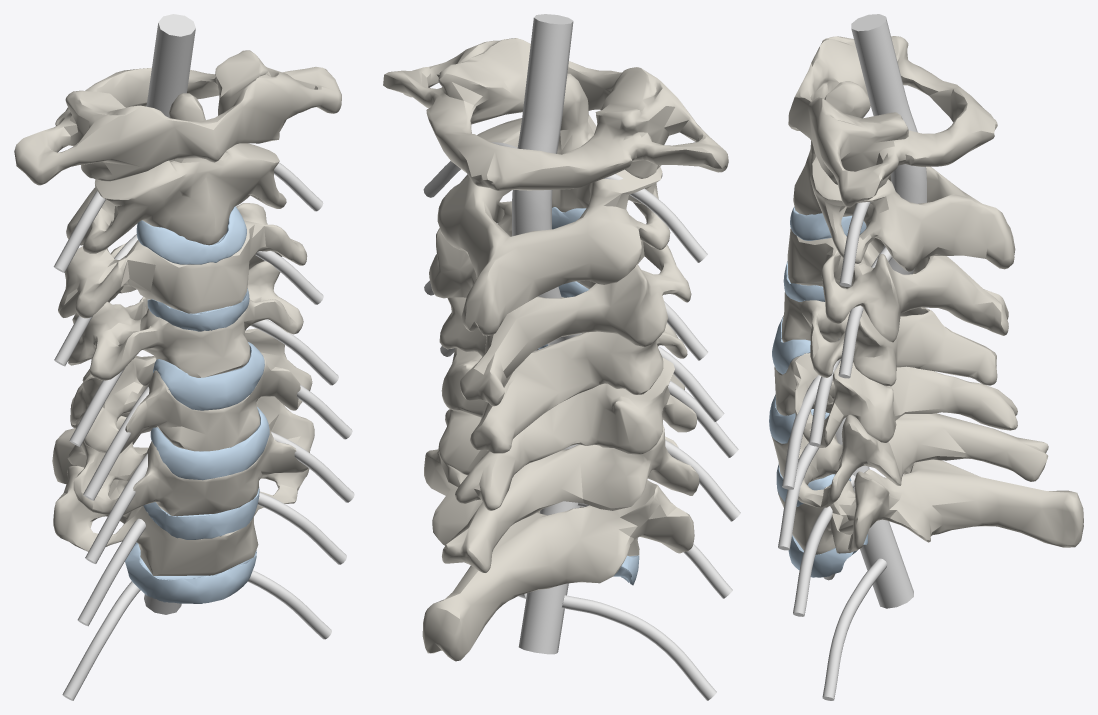
File: cervical.glb
3 renders of one model, left to right at view 1: azimuth 30°, elevation 25°; view 2: azimuth 150°, elevation 25°; view 3: azimuth 270°, elevation 25°, orthographic. The views are drawn at different scales.
Visible parts, largest first — view 1: C1, C2, C5, C3, C4, C6, C7, Cord, Disc_C4_C5, Disc_C7_T1, Disc_C5_C6, Disc_C2_C3 (+16 smaller); view 2: C1, C2, C7, C3, C6, C5, C4, Cord, Root_6_R, Root_0_R, Root_4_R, Root_3_R (+4 smaller); view 3: C1, C7, C2, C3, C6, C5, C4, Cord, Root_6_L, Root_5_L, Root_3_L, Root_4_L (+9 smaller).
Part boxes in pixels (bbox=[...]): C1: bbox=[14, 50, 341, 185]; C2: bbox=[66, 93, 286, 253]; C5: bbox=[70, 328, 312, 453]; C3: bbox=[58, 203, 307, 318]; C4: bbox=[68, 261, 303, 380]; C6: bbox=[67, 396, 314, 516]; C7: bbox=[52, 428, 309, 575]; Cord: bbox=[144, 14, 195, 614]; Disc_C4_C5: bbox=[153, 342, 264, 410]; Disc_C7_T1: bbox=[125, 542, 256, 603]; Disc_C5_C6: bbox=[150, 406, 269, 480]; Disc_C2_C3: bbox=[136, 206, 246, 264]; C1: bbox=[383, 38, 728, 191]; C2: bbox=[437, 73, 670, 335]; C7: bbox=[422, 447, 694, 661]; C3: bbox=[429, 201, 691, 406]; C6: bbox=[438, 409, 699, 572]; C5: bbox=[441, 348, 696, 510]; C4: bbox=[439, 297, 687, 453]; Cord: bbox=[512, 14, 581, 654]; Root_6_R: bbox=[562, 595, 716, 700]; Root_0_R: bbox=[603, 174, 707, 262]; Root_4_R: bbox=[665, 440, 740, 521]; Root_3_R: bbox=[668, 380, 738, 457]; C1: bbox=[788, 36, 997, 207]; C7: bbox=[778, 459, 1083, 554]; C2: bbox=[793, 81, 1015, 271]; C3: bbox=[787, 228, 1008, 342]; C6: bbox=[771, 413, 1048, 507]; C5: bbox=[774, 353, 1017, 447]; C4: bbox=[781, 242, 997, 386]; Cord: bbox=[835, 14, 926, 608]; Root_6_L: bbox=[822, 558, 887, 700]; Root_5_L: bbox=[793, 474, 855, 616]; Root_3_L: bbox=[782, 375, 821, 489]; Root_4_L: bbox=[778, 443, 818, 550].
Bounding box in the file's own units: 0.0816 × 0.154 × 0.0707.
